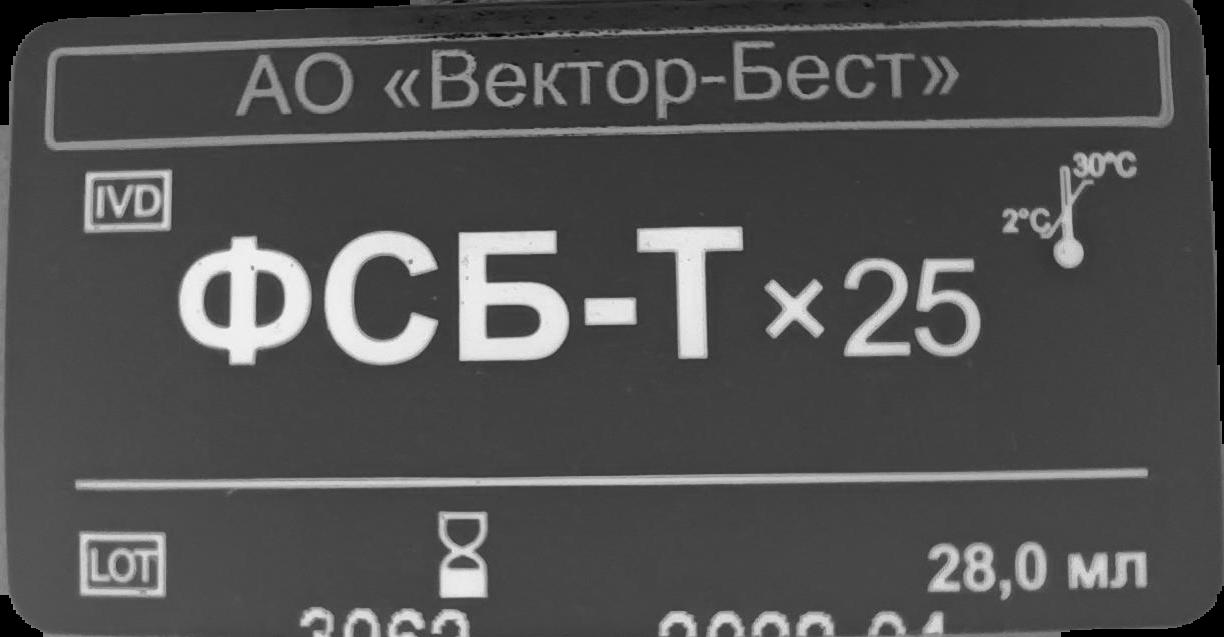something: (995, 151, 1140, 269), (71, 529, 166, 605), (433, 505, 498, 604), (81, 170, 174, 234)
text: (174, 226, 988, 379), (229, 45, 960, 122), (916, 535, 1159, 605)
